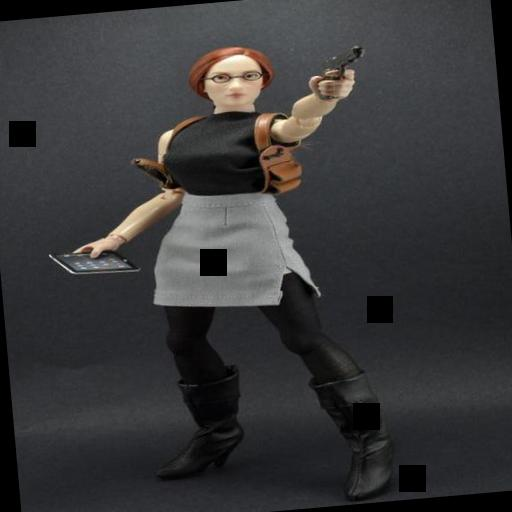Handgun: (312, 42, 368, 78)
